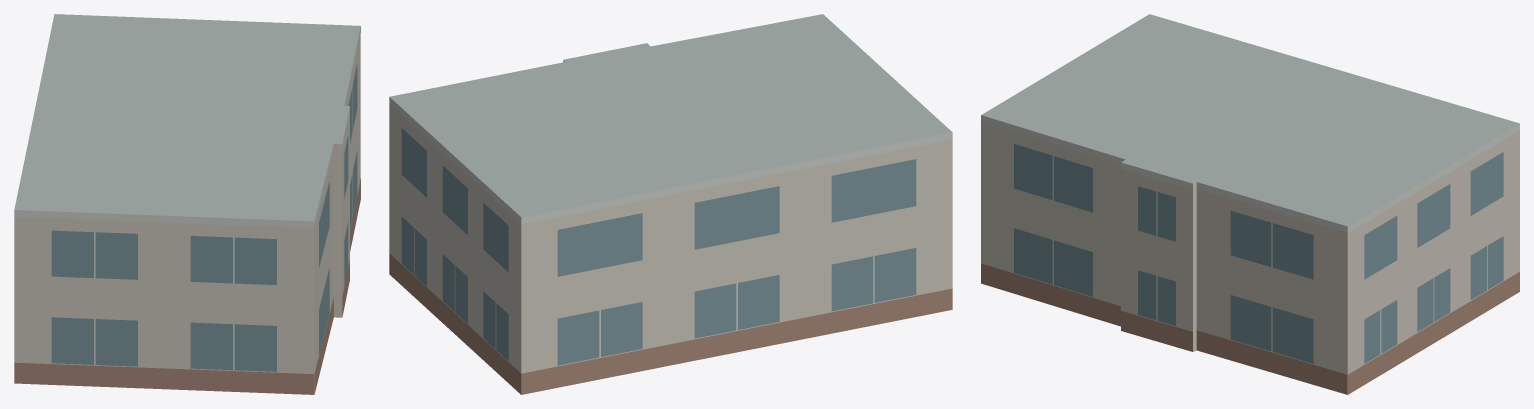
File: survey-upis-32623668.glb
3 views of the same model, side by side, from view 1: azimuth 30°, elevation 25°; view 2: azimuth 150°, elevation 25°; view 3: azimuth 270°, elevation 25° (orthographic). The views are drawn at different scales.
Visible parts, largest first — view 1: survey-upis-32623668.tmp; view 2: survey-upis-32623668.tmp; view 3: survey-upis-32623668.tmp.
Boxes of the visible parts, bbox=[...] form: survey-upis-32623668.tmp: bbox=[14, 14, 360, 394]; survey-upis-32623668.tmp: bbox=[389, 14, 952, 394]; survey-upis-32623668.tmp: bbox=[981, 14, 1519, 394].
Bounding box in the file's own units: 16.51 × 6.1 × 17.69.
